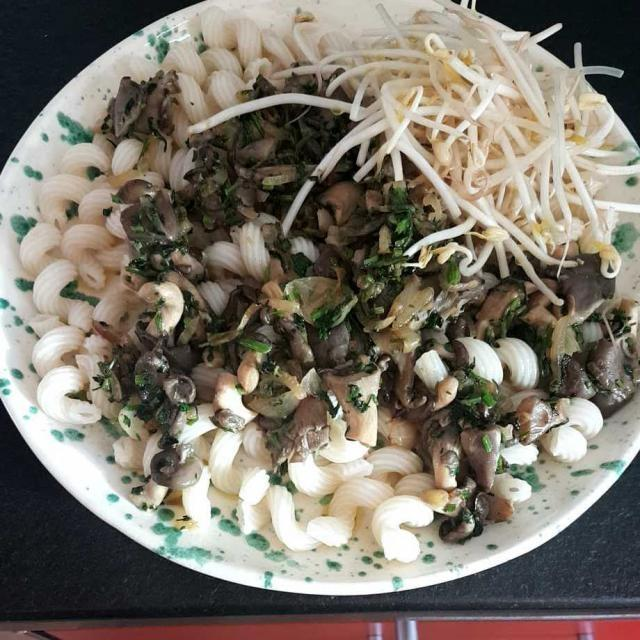pasta: (70, 128, 477, 550)
sprouts: (322, 19, 620, 225)
